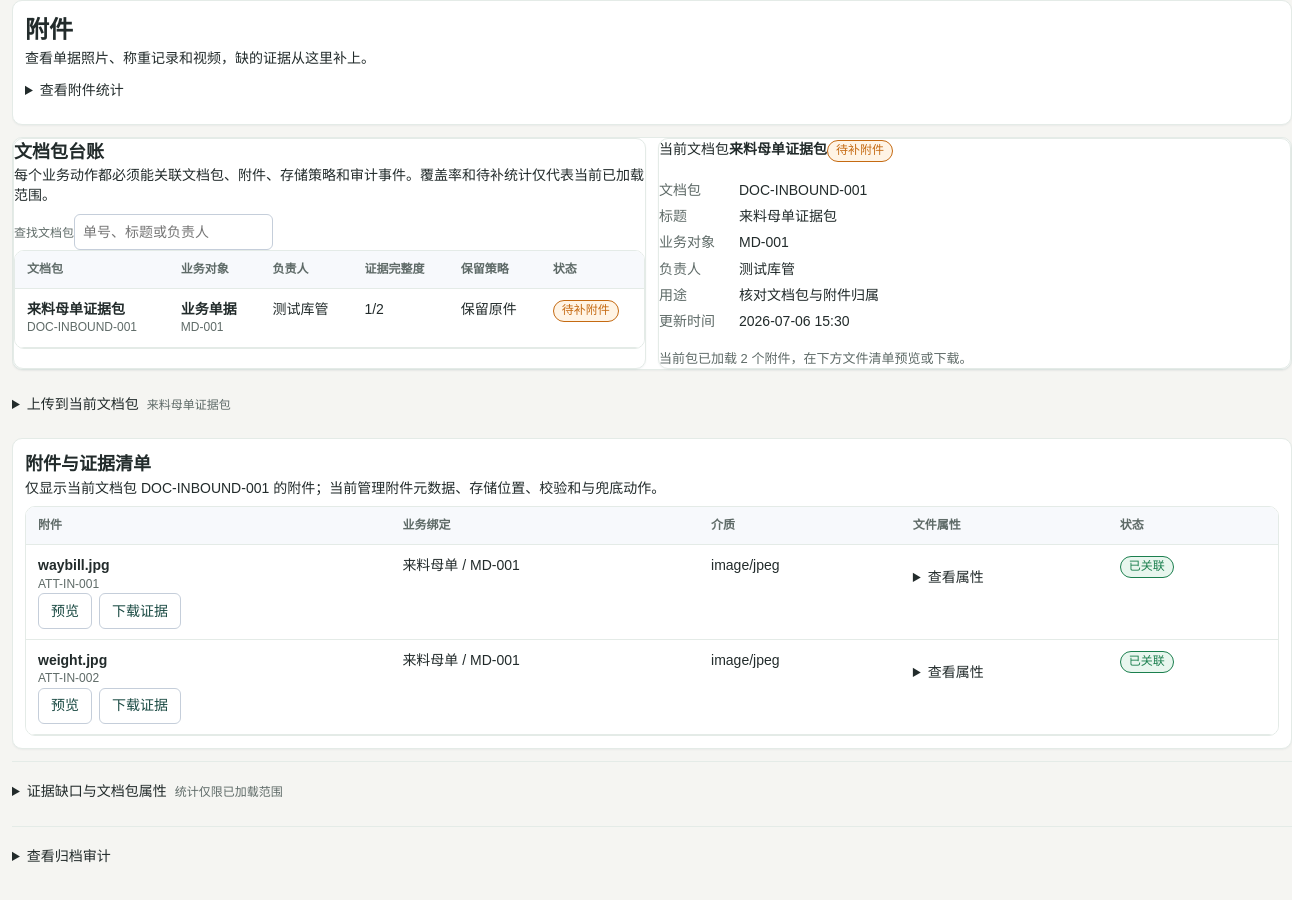
Test: DocumentManagementWorkspace › 首屏限制 50 条并将台账关键词交给服务端检索
The image size is (1292, 900).
Type "质检返工" into the field named "查找文档包". click: (174, 232)
box: x1=74 y1=214 x2=273 y2=250
Wait 280 ms
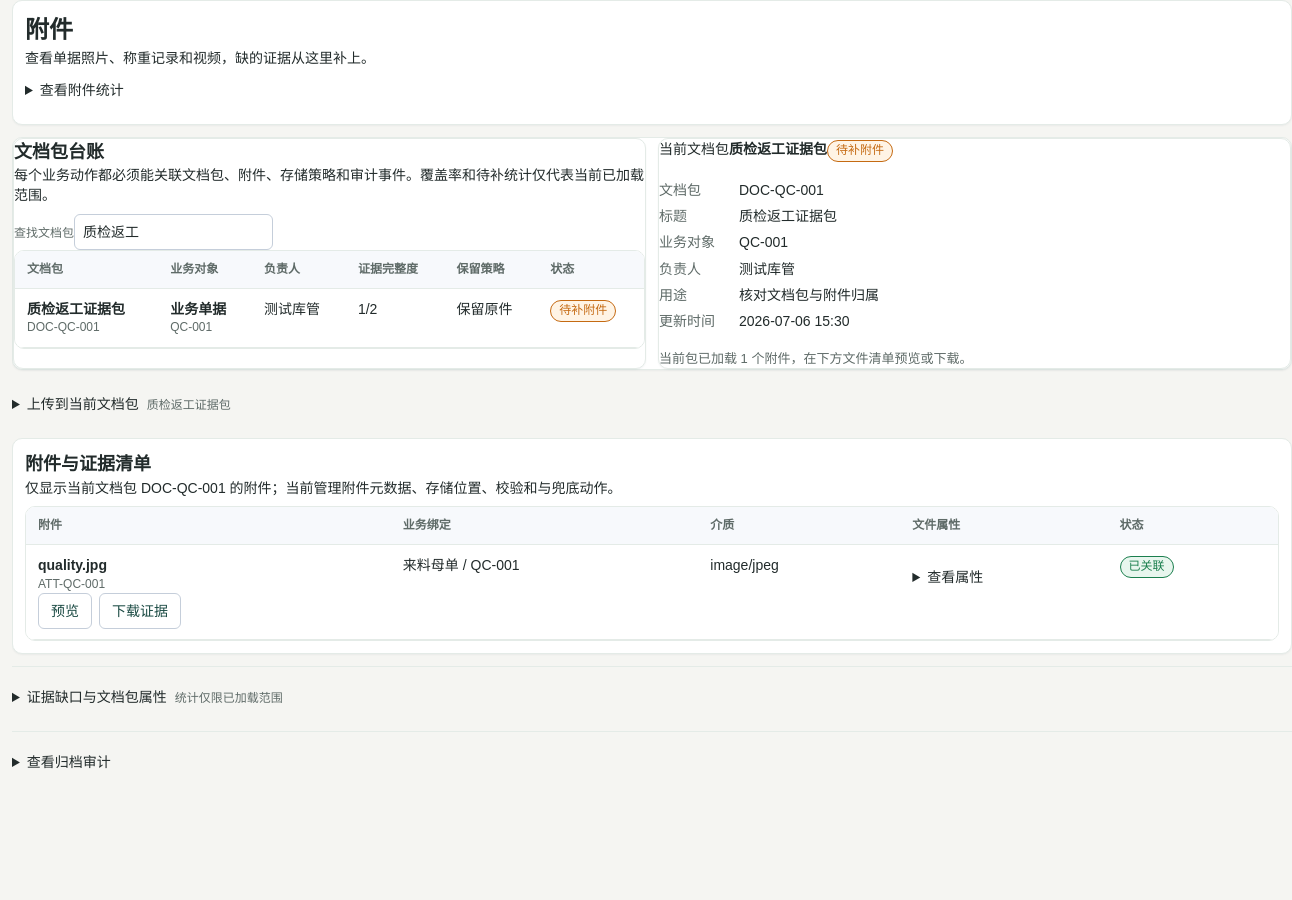
Check: the element with class "document-master" shows "DOC-QC-001", box x1=27 y1=320 x2=100 y2=334
Check: the text with class "document-master" no longer shows "DOC-INBOUND-001"
